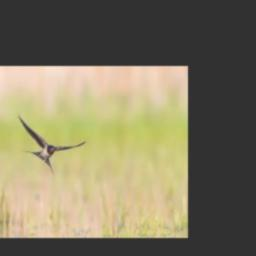Swallow: (19, 115, 87, 172)
